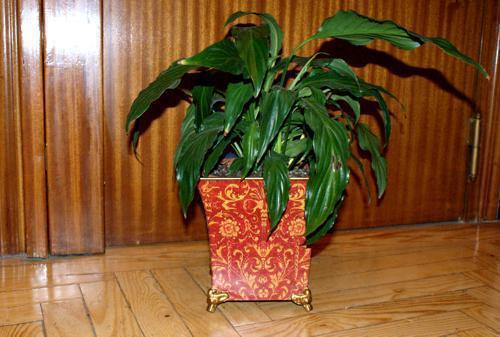Matera: (103, 1, 499, 322)
